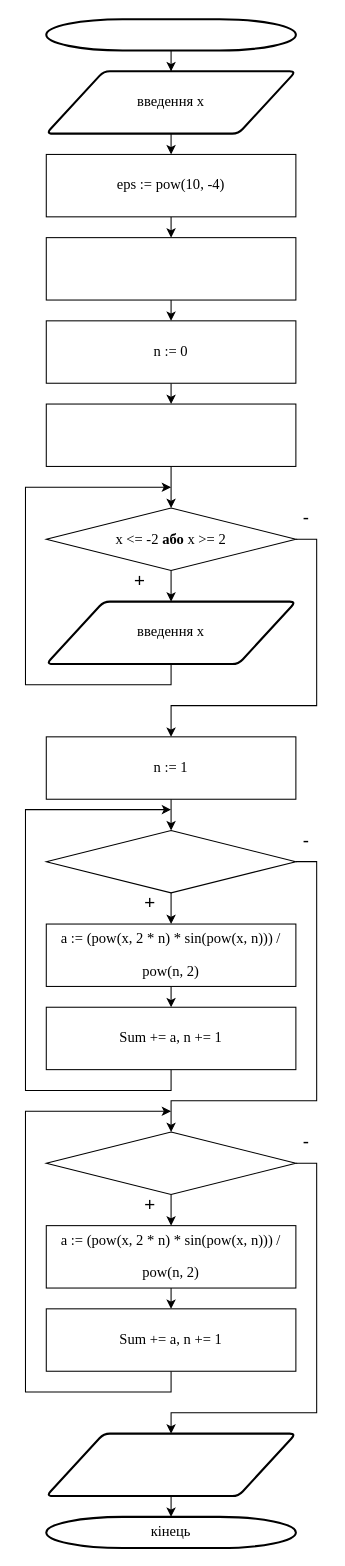
Image size: 345x1566. Some labels were removed from this diagram. Here are the shapes that lost their labels. From the top down, the centre of each, then its label:
At (170,34): "початок".
At (170,268): "Sum := 0".
At (170,434): "a := 0".
At (170,861): "n <= 10".
At (170,1162): "n > 10 та abs(a) >= eps".
At (170,1464): "виведення Sum".
